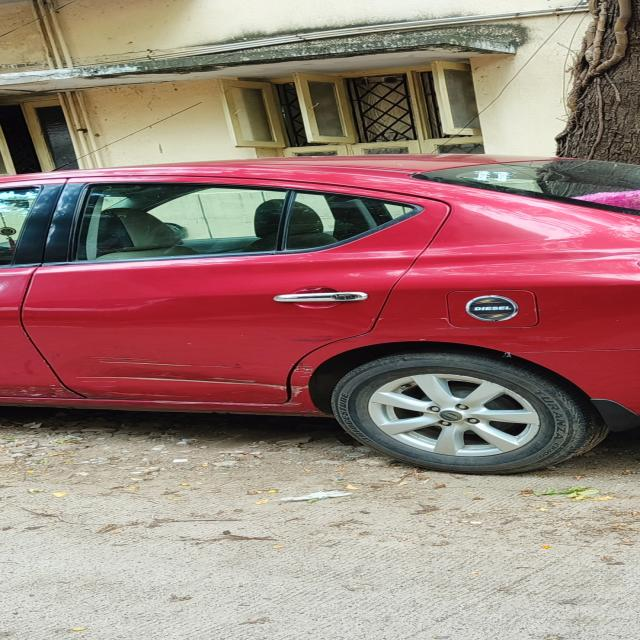scratch: (73, 370, 280, 388), (92, 355, 236, 368), (92, 391, 198, 400), (292, 363, 313, 378), (290, 385, 309, 397), (290, 337, 335, 342)
